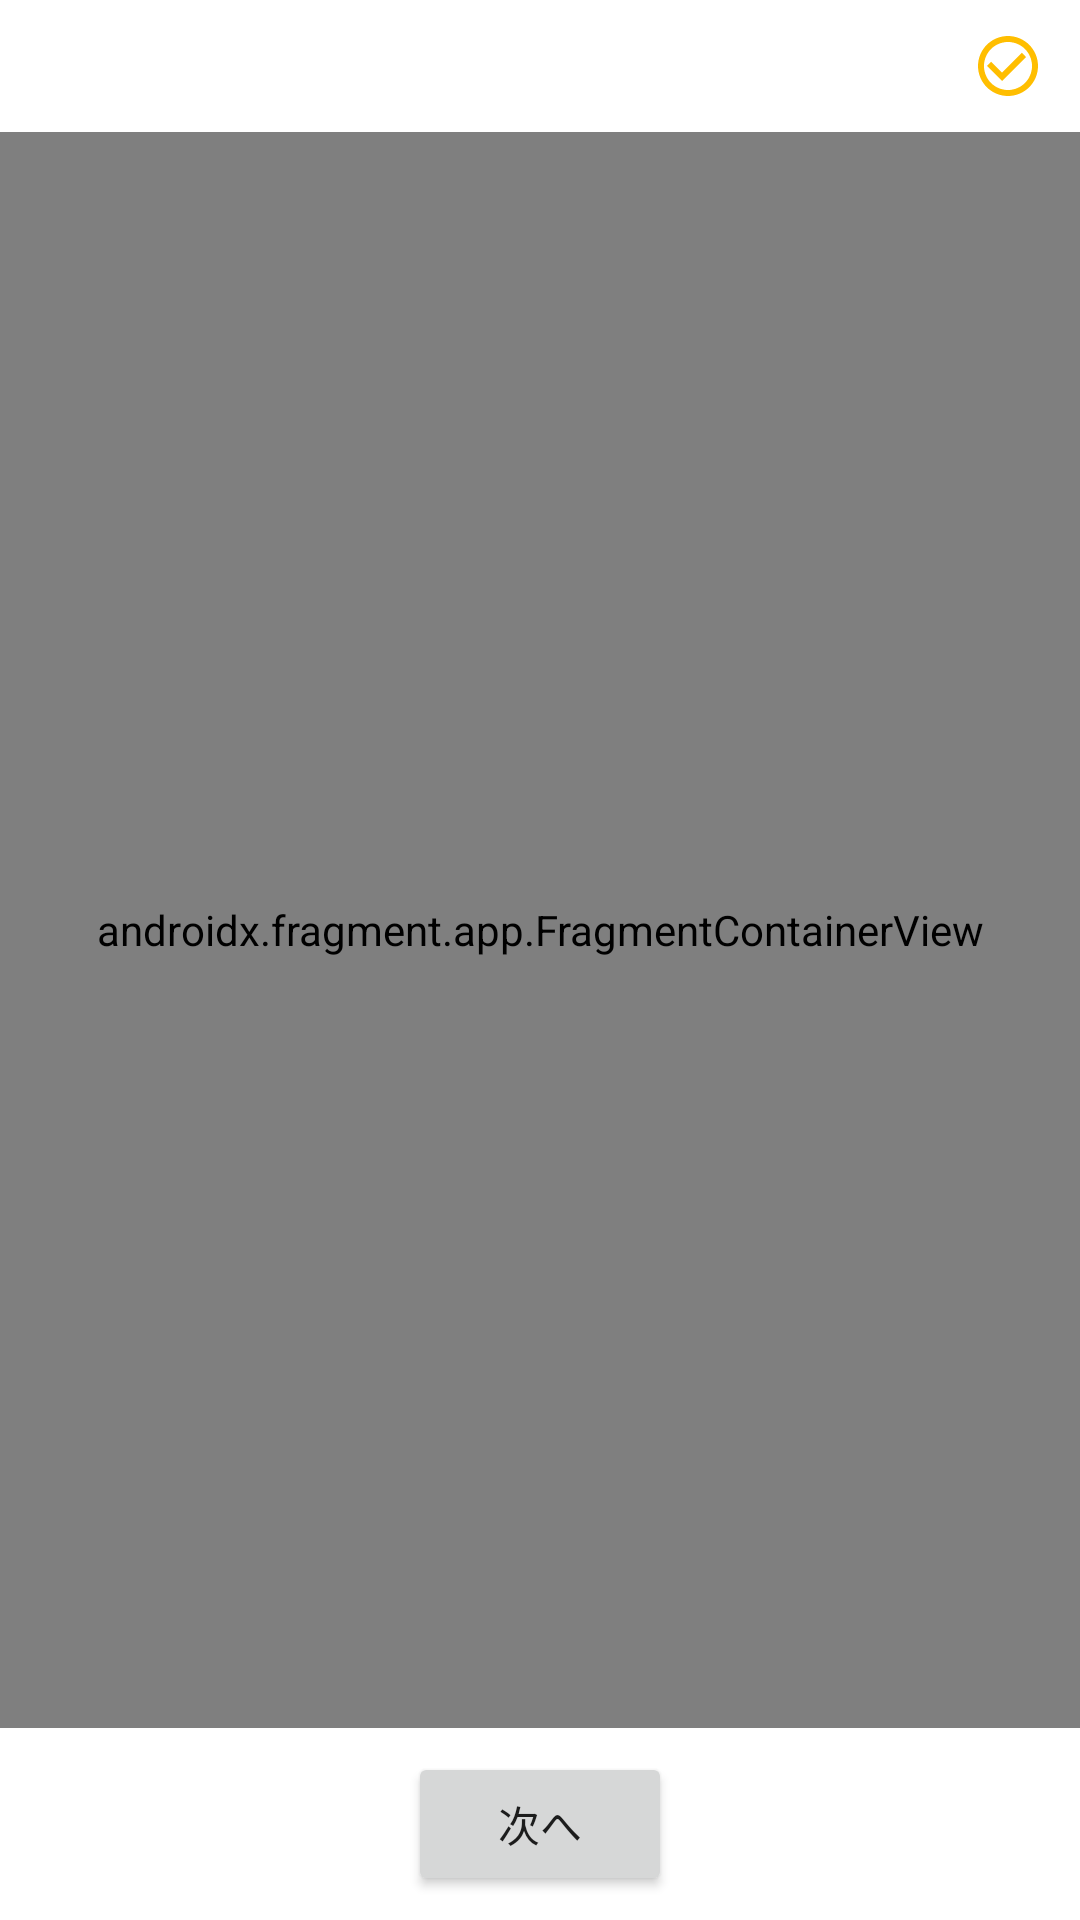

Icon bounding boxes for this 1080px×1920px phone screenshot, format (x1, y1, x2, y2):
check circle: (978, 36, 1038, 96)
